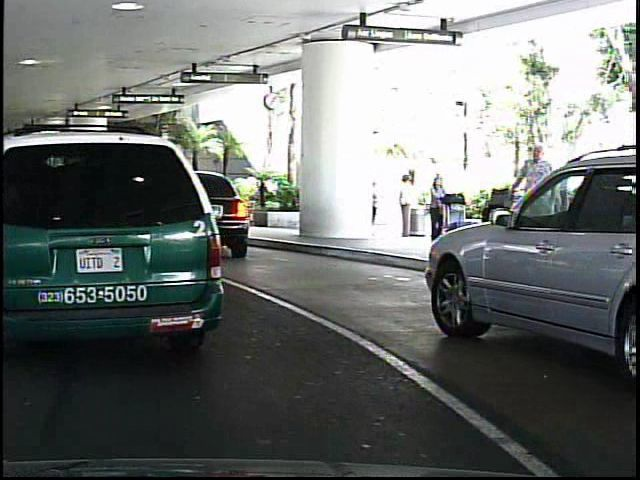person: (503, 135, 561, 275), (420, 169, 447, 238)
